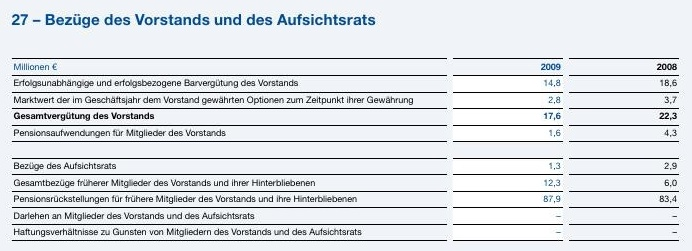table: (0, 0, 692, 251)
